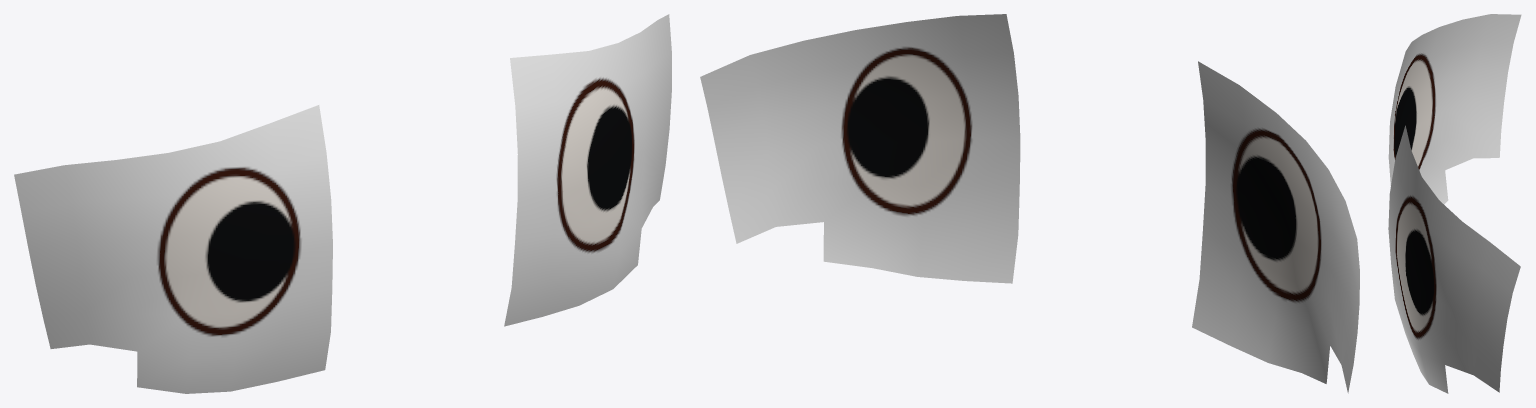
Rendered from eye_3.fbx.
3 renders of one model, left to right at view 1: azimuth 30°, elevation 25°; view 2: azimuth 150°, elevation 25°; view 3: azimuth 270°, elevation 25°, orthographic. The views are drawn at different scales.
Parts seen in each view (by area): view 1: R_eye, L_eye; view 2: L_eye, R_eye; view 3: L_eye, R_eye.
Boxes of the visible parts, x1,y1,x2,y2 form: R_eye: (14, 105, 332, 393); L_eye: (504, 14, 671, 326); L_eye: (700, 14, 1020, 283); R_eye: (1192, 61, 1359, 393); L_eye: (1388, 125, 1520, 393); R_eye: (1388, 14, 1521, 204).
Bounding box in the file's own units: 0.6768 × 0.2713 × 0.1507.
1 material, 1 textured.
